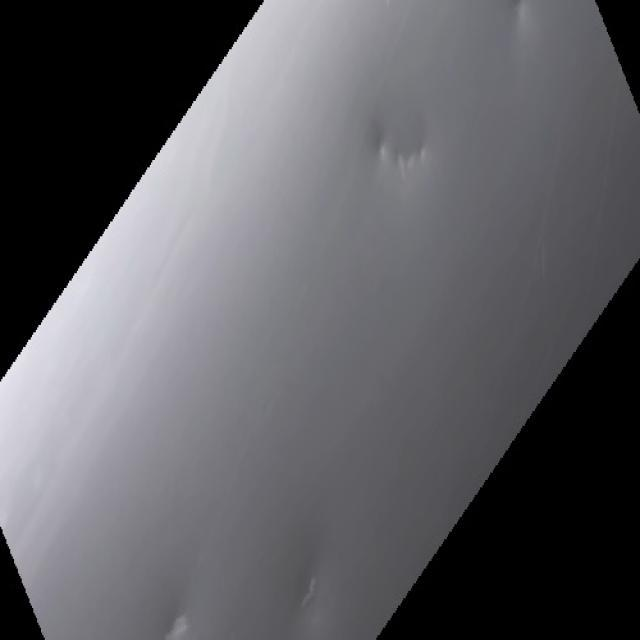dent: (369, 117, 462, 226), (299, 538, 333, 607)
